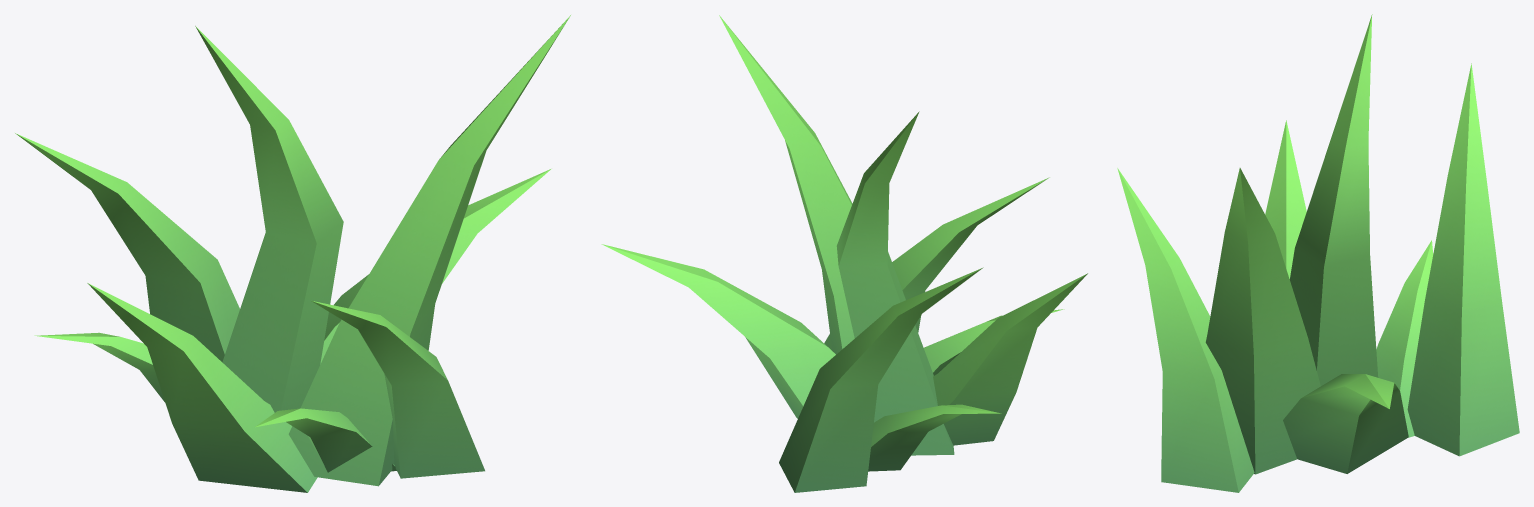
File: grass1.fbx
3 views of the same model, side by side, from view 1: azimuth 30°, elevation 25°; view 2: azimuth 150°, elevation 25°; view 3: azimuth 270°, elevation 25° (orthographic). The views are drawn at different scales.
Visible parts, largest first — view 1: polySurface16; view 2: polySurface16; view 3: polySurface16.
Part boxes in pixels (<box>): polySurface16: <box>15,15,570,492</box>; polySurface16: <box>601,15,1087,492</box>; polySurface16: <box>1117,14,1519,492</box>.
Size of the model in its own units: 7.51 by 5.7 by 5.33.
1 material, 1 textured.
